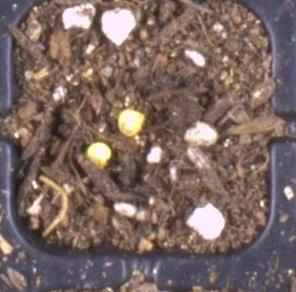chilli seed: (117, 108, 145, 136), (86, 141, 112, 169)
